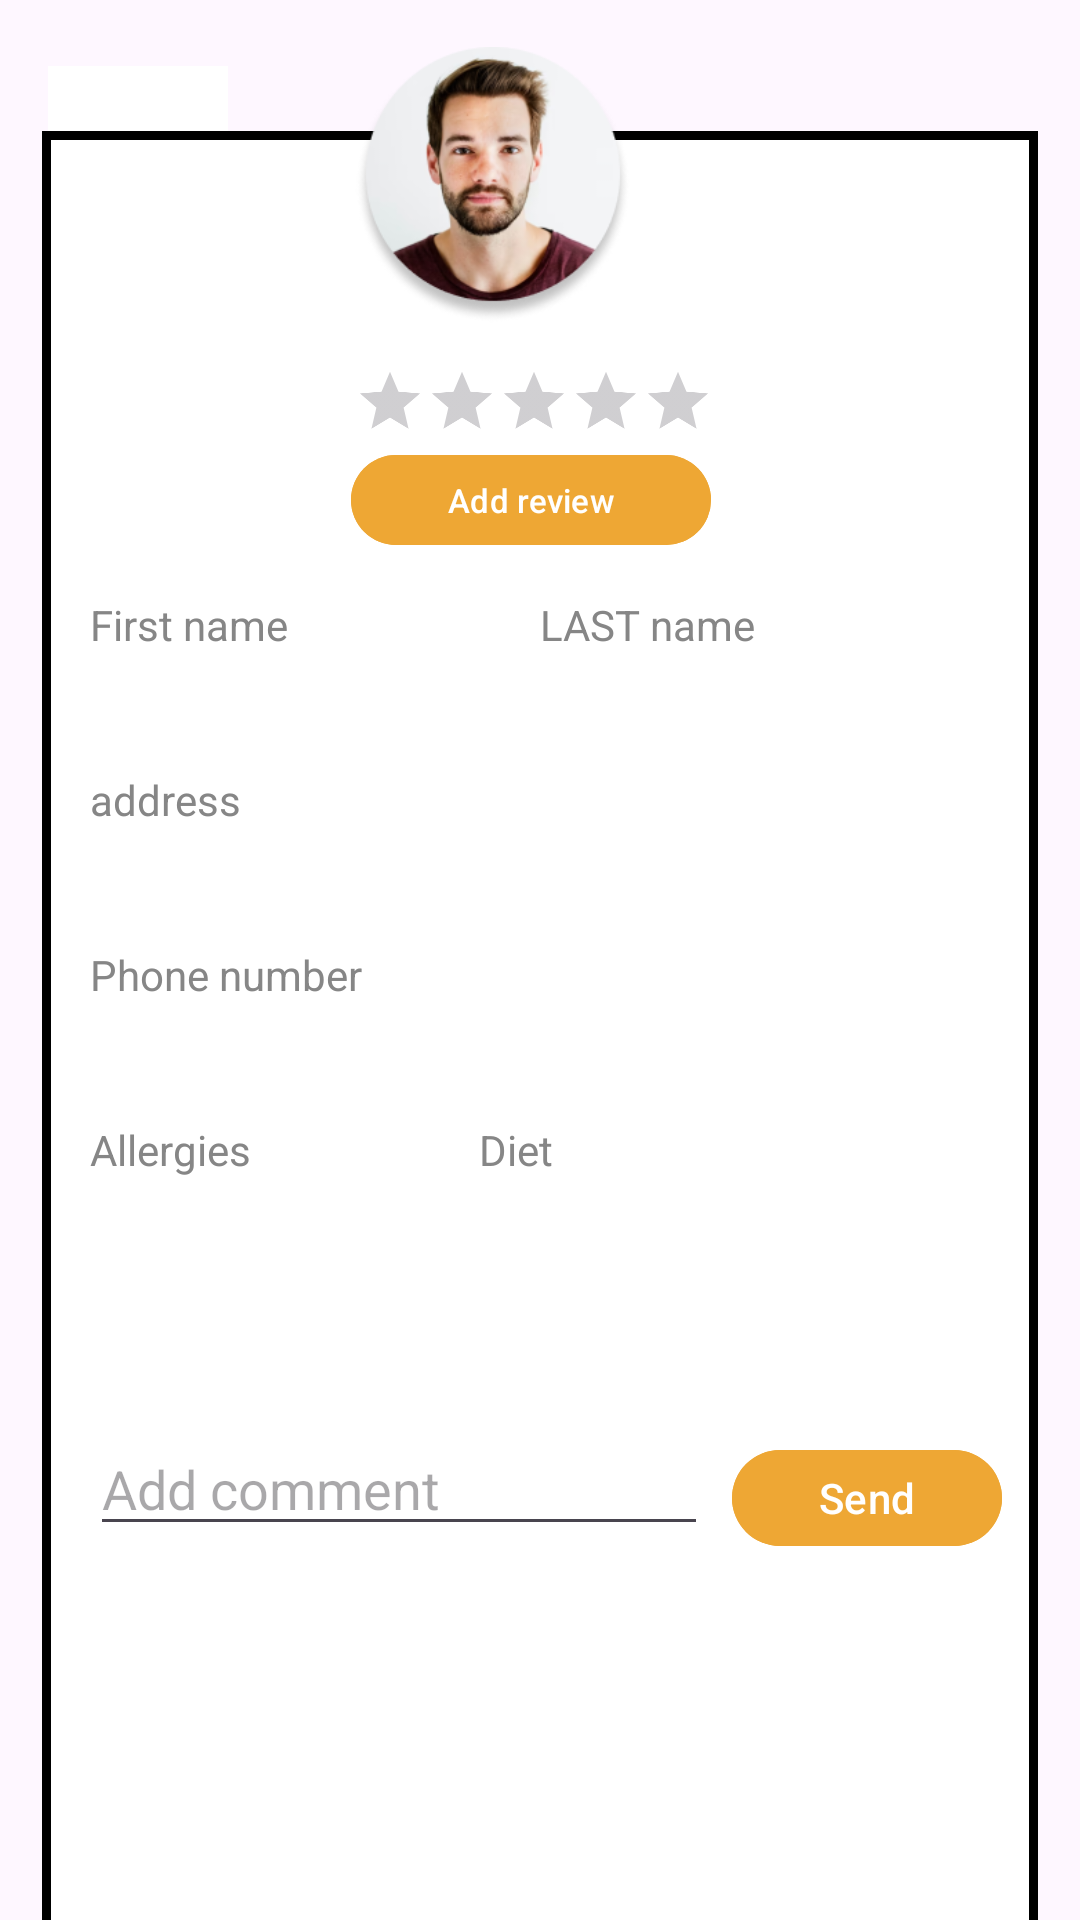

Named icons in this screenshot (1080×1920) and their bounding boxes, (x1, y1, x2, y2):
portrait of: (355, 47, 631, 317)
